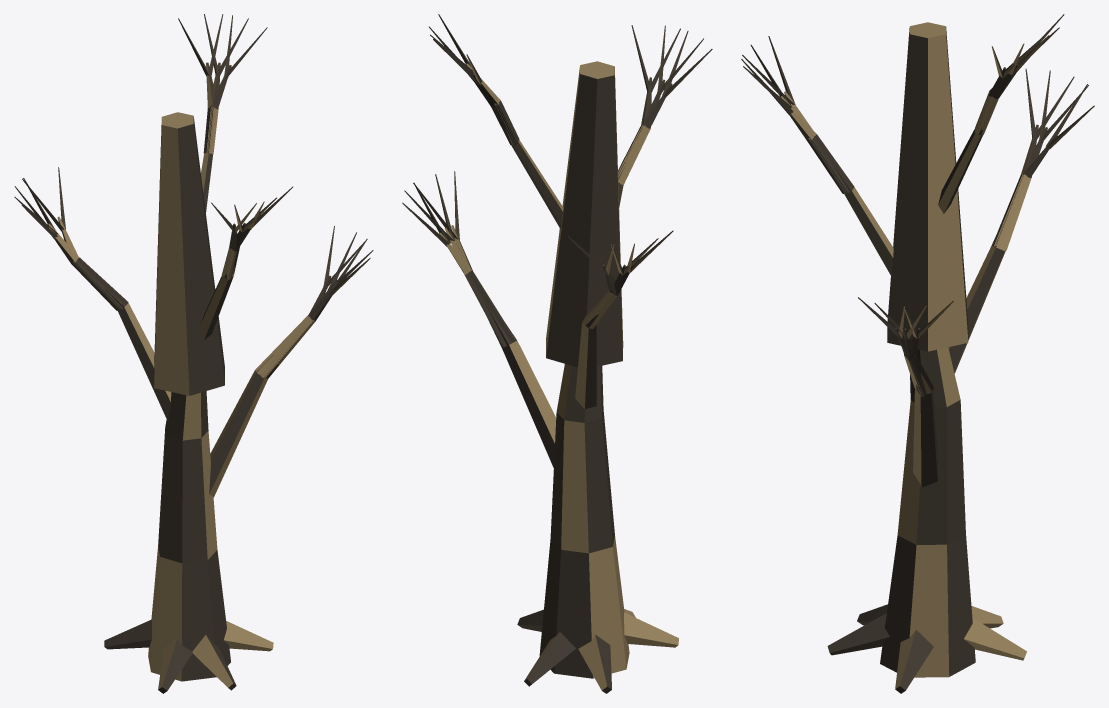
File: tree_dead_snag.obj
3 renders of one model, left to right at view 1: azimuth 30°, elevation 25°; view 2: azimuth 150°, elevation 25°; view 3: azimuth 270°, elevation 25°, orthographic. The views are drawn at different scales.
Parts seen in each view (by area): view 1: tree_dead_snag; view 2: tree_dead_snag; view 3: tree_dead_snag.
Boxes of the visible parts, x1,y1,x2,y2 form: tree_dead_snag: (14,14,373,693); tree_dead_snag: (402,14,712,693); tree_dead_snag: (741,14,1094,693).
Size of the model in its own units: 203 by 390 by 186.
Materials: 1 (1 with a texture image).
